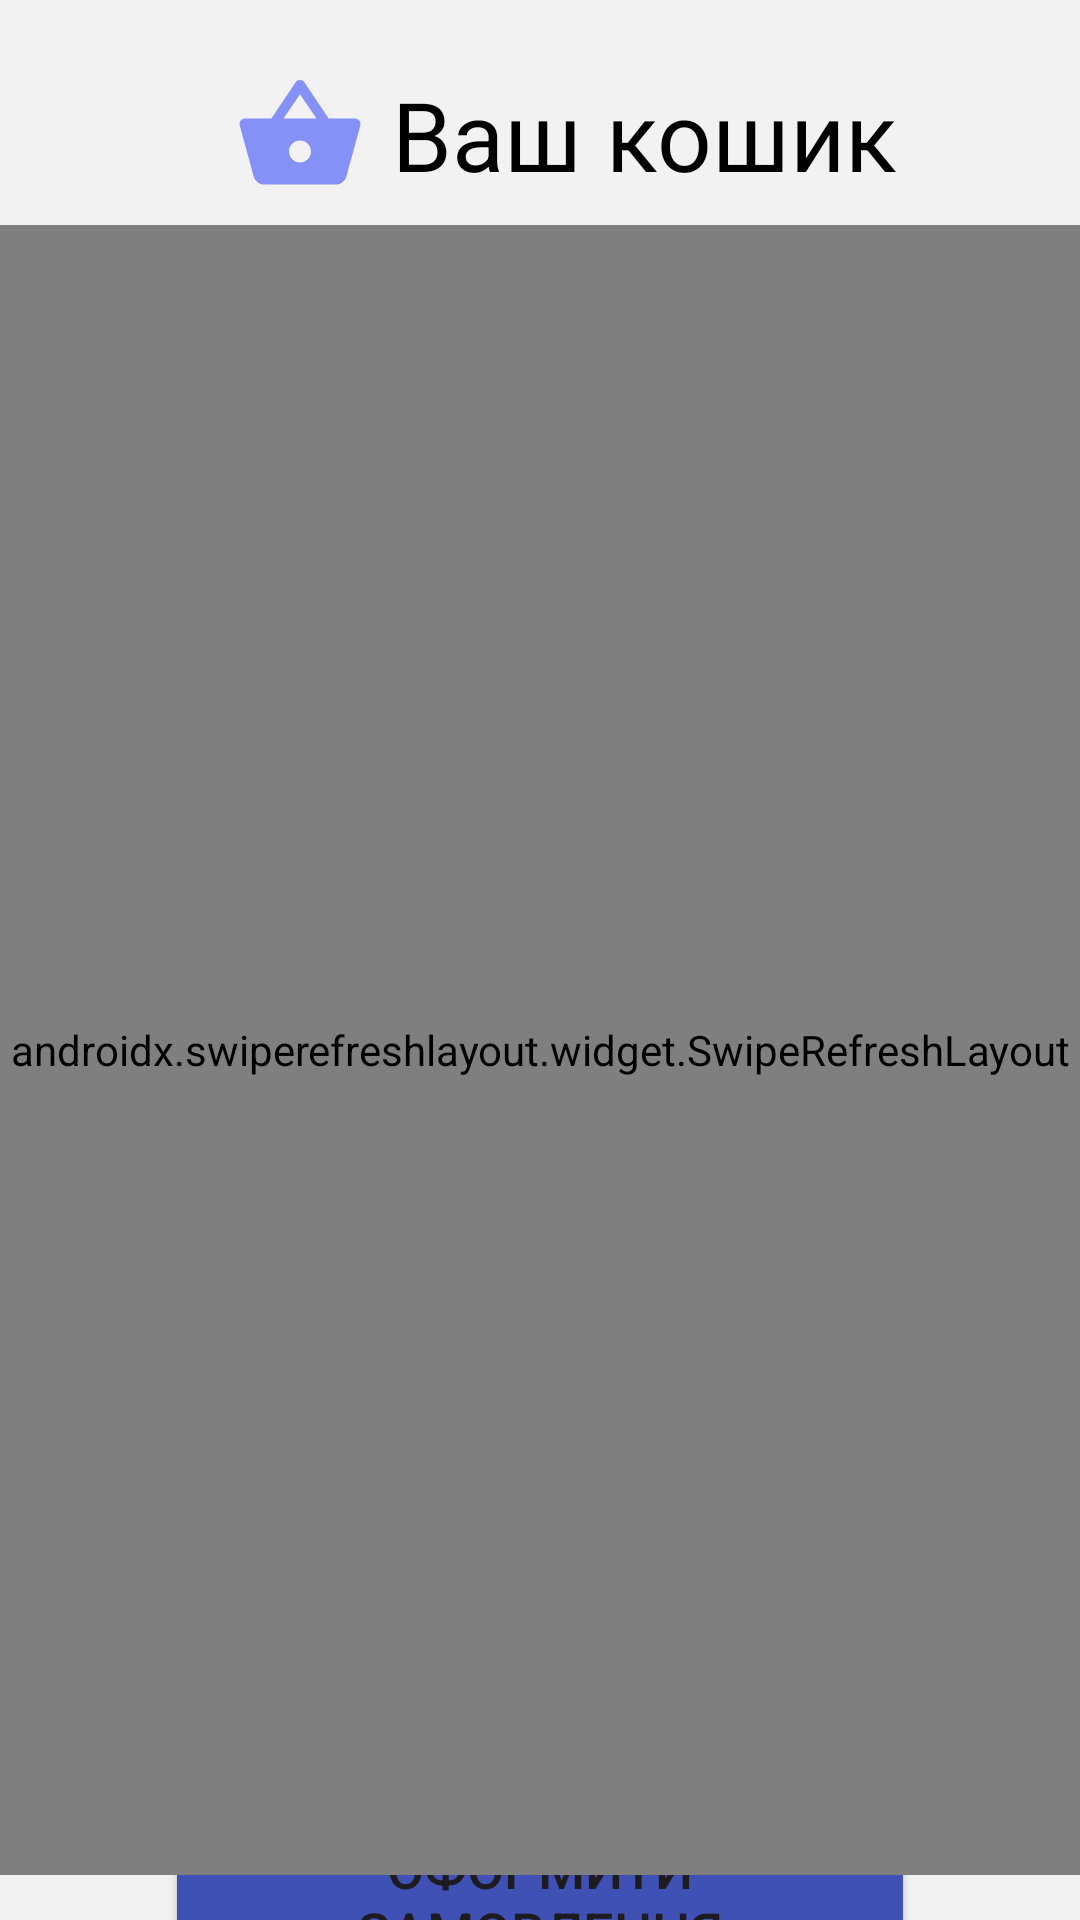

Where to tap for icons on this 1080w x 1920h app screen, as point (x, y):
basket: point (300, 132)
